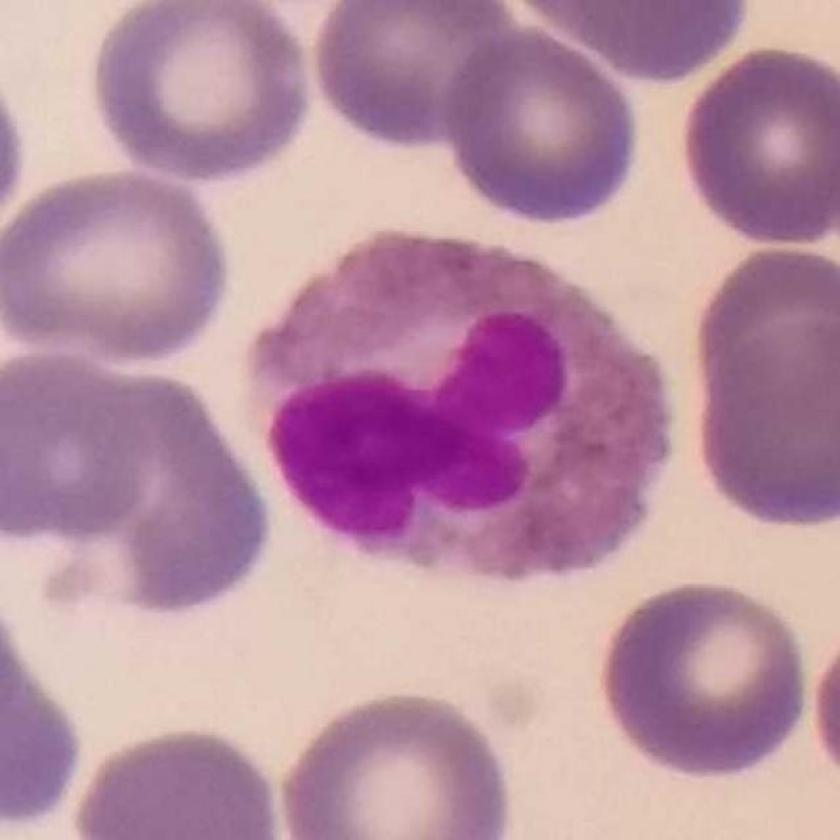eosinophil: (240, 220, 682, 588)
